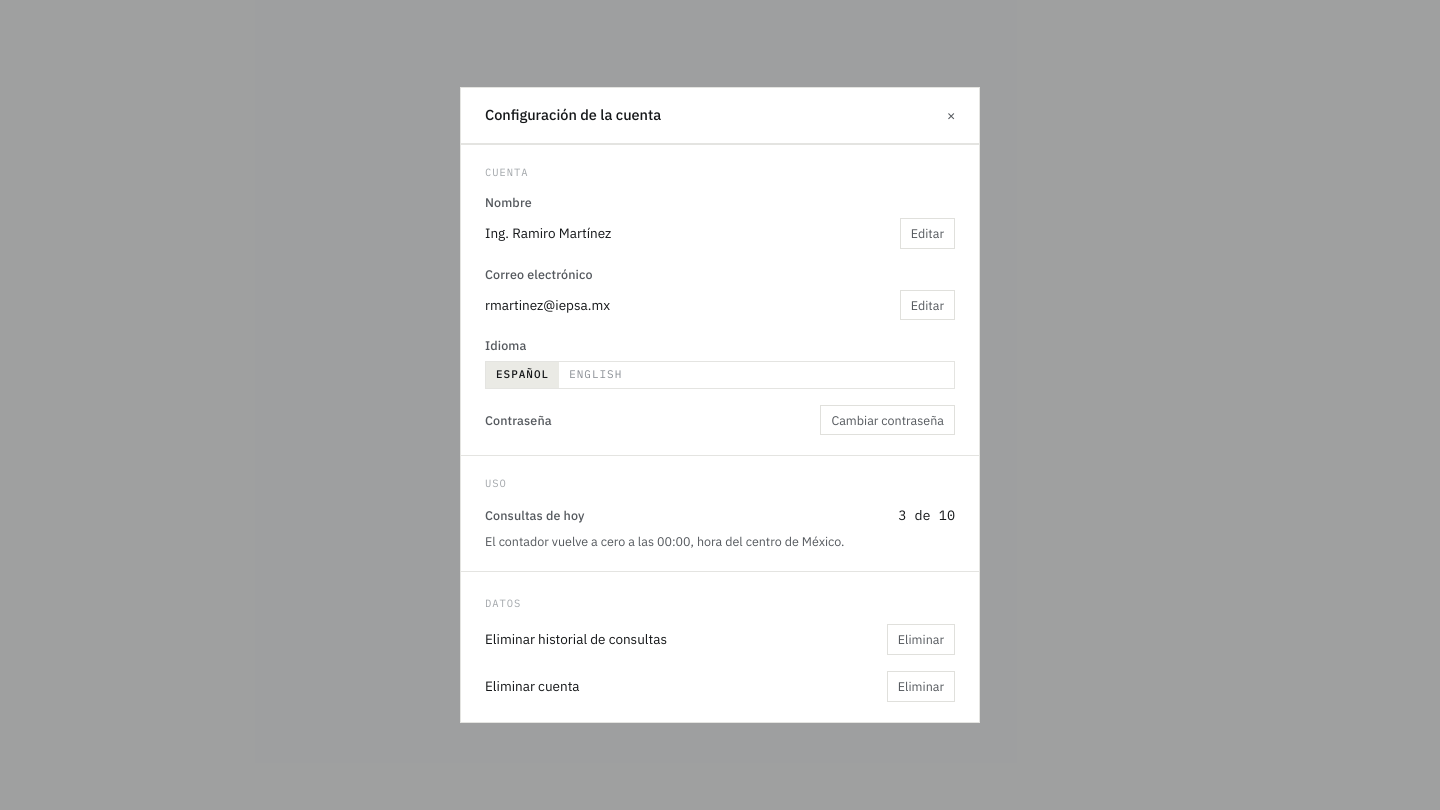
Test: language selector in account settings › keeps the interface on the old language when the write fails
The image size is (1440, 810).
Click the button "English" at (596, 375), box left=559, top=362, right=632, bottom=388
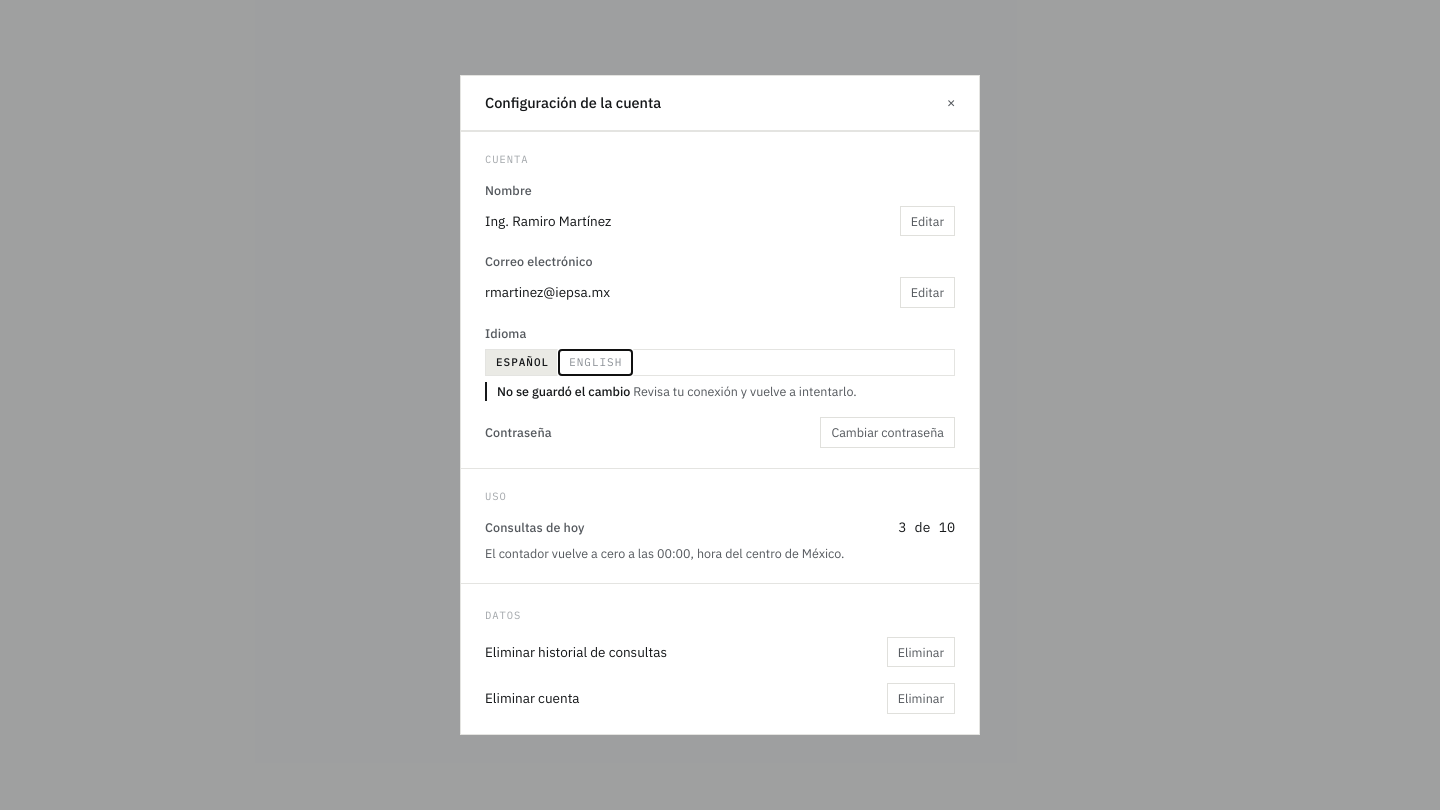
Expected: the dialog "Configuración de la cuenta" is shown, left=460, top=75, right=980, bottom=735
Expected: the message shows "No se guardó el cambio", left=497, top=383, right=630, bottom=399
